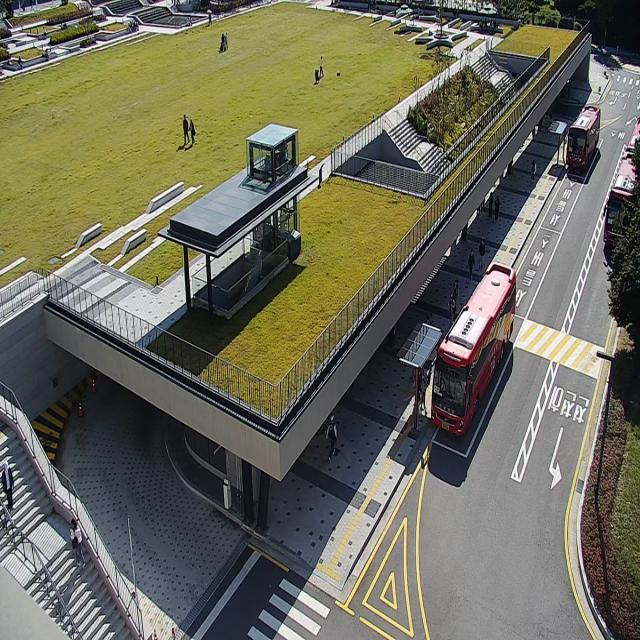queue: (412, 326, 444, 432)
